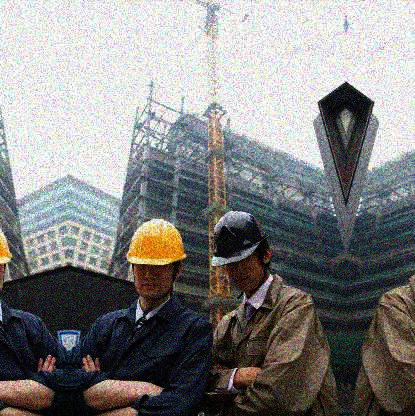helmet: (125, 217, 189, 298), (211, 208, 272, 292)
